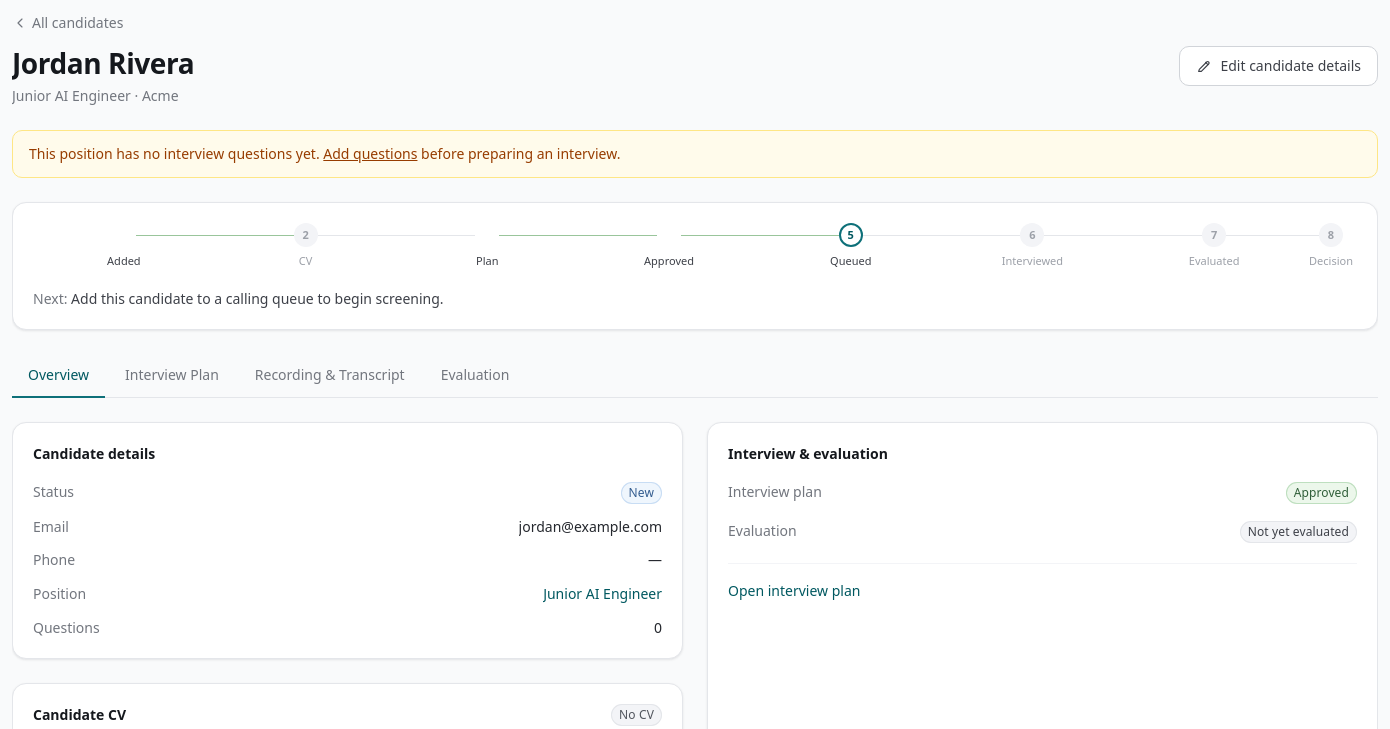
Scenario: CandidateDetailPage › blocks preparation and explains why when the position has no questions
Check: the text "no interview questions yet" is shown, box [29,144,320,163]
Step 1. Click the tab "Interview Plan" → click(172, 376), box [109,354,235,398]
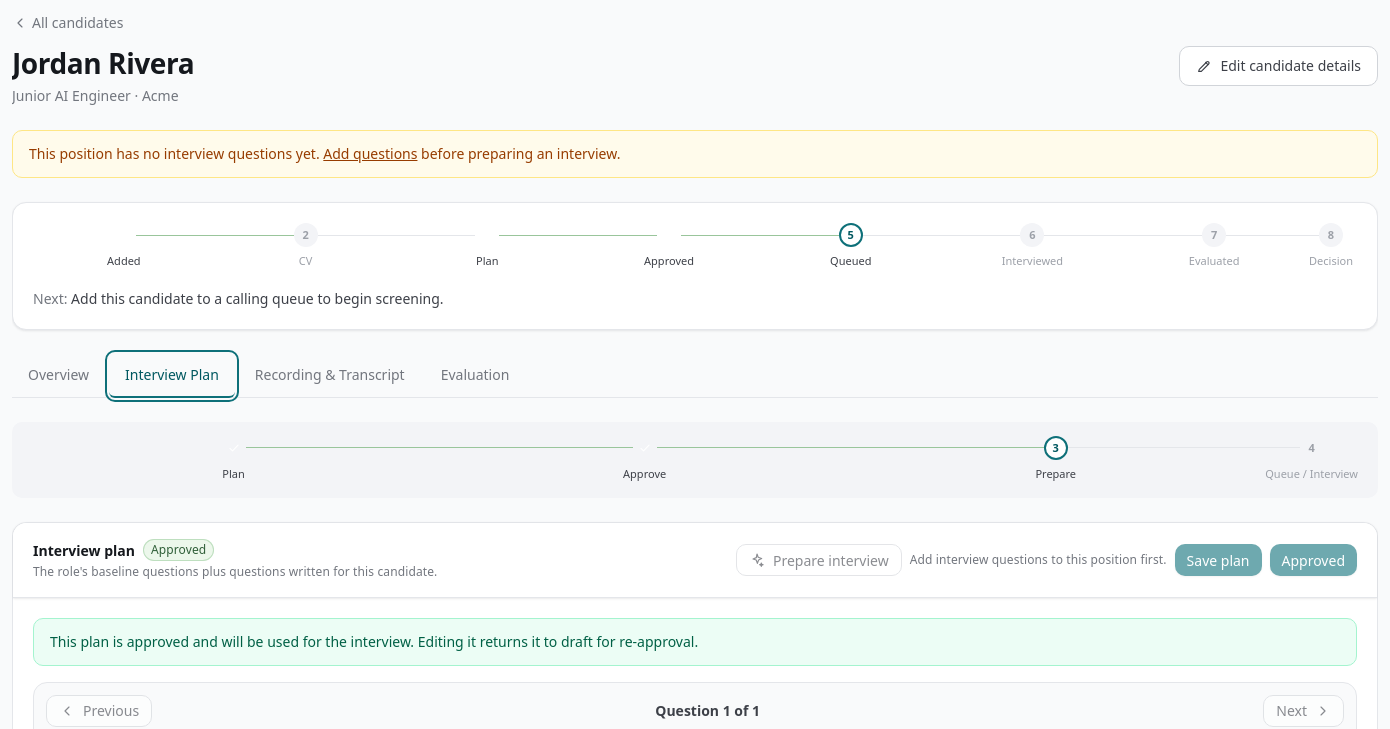
Check: the button "Prepare interview" is disabled, box [736,544,902,576]
Check: the text "Add interview questions to this position first." is shown, box [910,551,1167,569]
